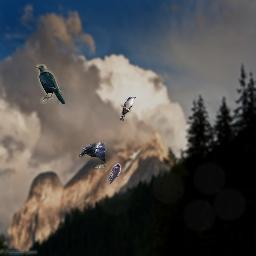Crow: (36, 64, 65, 104), (79, 142, 105, 168)
Cuckoo: (120, 97, 136, 121)
Swallow: (107, 163, 121, 184)
